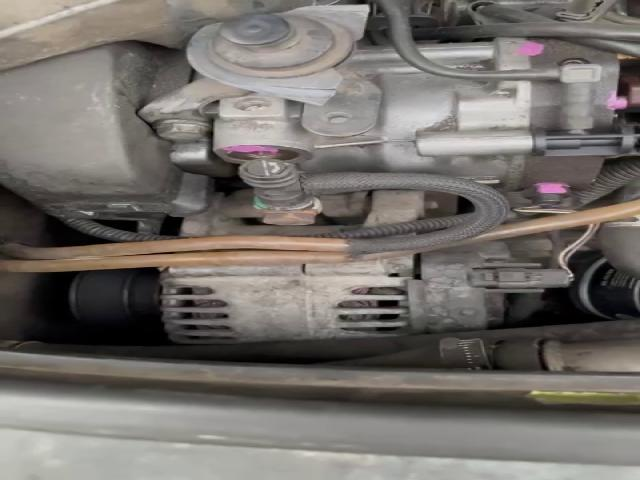alternator: (161, 256, 413, 343)
high_pressure_pump: (214, 38, 638, 205)
